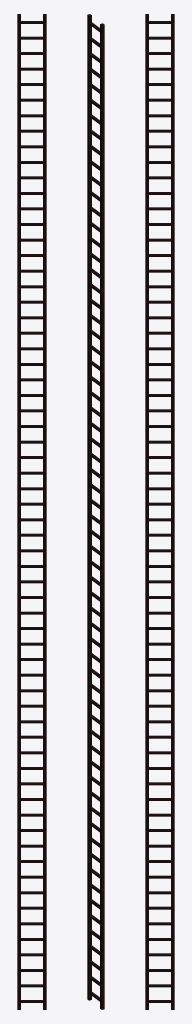
File: ladder.obj
3 views of the same model, side by side, from view 1: azimuth 90°, elevation 25°; view 2: azimuth 210°, elevation 25°; view 3: azimuth 270°, elevation 25° (orthographic).
Parts seen in each view (by area): view 1: Cube.001_Cube.012; view 2: Cube.001_Cube.012; view 3: Cube.001_Cube.012.
Boxes of the visible parts, x1,y1,x2,y2 form: Cube.001_Cube.012: [17, 14, 46, 1009]; Cube.001_Cube.012: [87, 14, 104, 1009]; Cube.001_Cube.012: [145, 14, 174, 1009].
Bounding box in the file's own units: 0.1 × 32 × 0.85.
